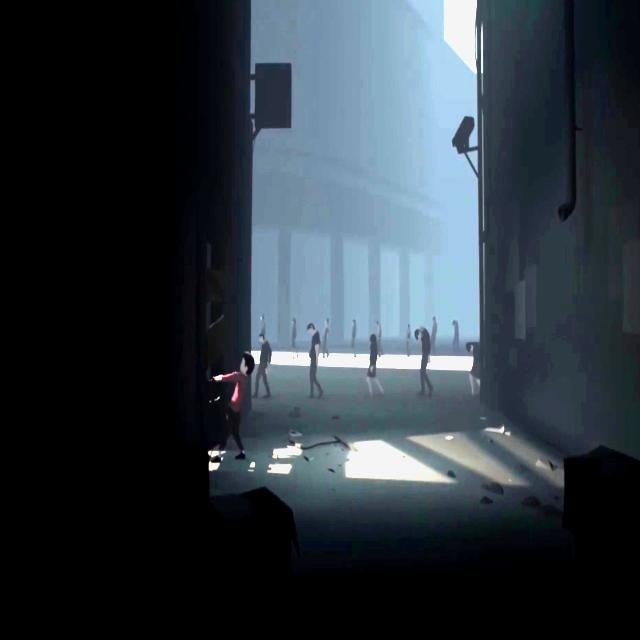boy: (211, 351, 255, 463)
zombie: (413, 327, 434, 397), (308, 324, 326, 400), (256, 332, 272, 398), (368, 332, 382, 398), (467, 339, 480, 397), (291, 317, 298, 362), (350, 320, 358, 358), (452, 319, 458, 353), (405, 322, 411, 356), (259, 314, 266, 330), (375, 319, 381, 331), (432, 315, 437, 326)
